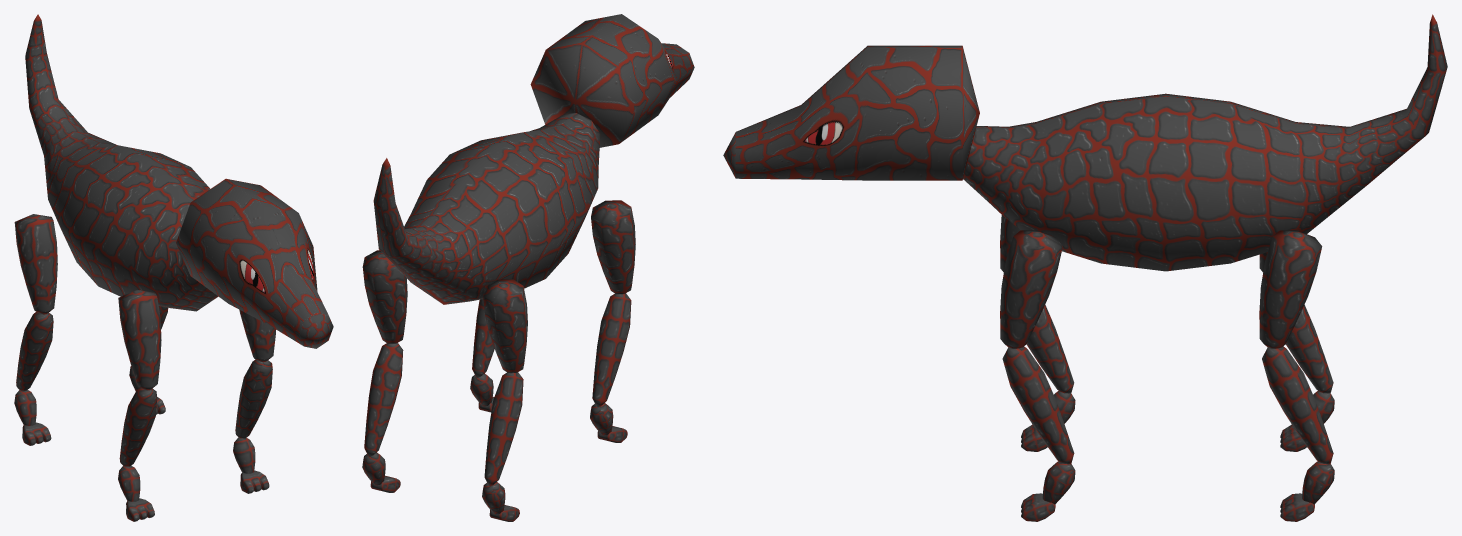
Rendered from Multi_Mon_4Legs.fbx.
3 views of the same model, side by side, from view 1: azimuth 30°, elevation 25°; view 2: azimuth 150°, elevation 25°; view 3: azimuth 270°, elevation 25° (orthographic). The views are drawn at different scales.
Visible parts, largest first — view 1: Body, Head, Upper_Leg_R_B, Upper_Leg_R_F, Lower_Leg_L_F, Lower_Leg_R_B, Lower_Leg_R_F, Upper_Leg_L_F, Ankle_Leg_L_F, Ankle_Leg_R_F, Ankle_Leg_R_B, Foot_Leg_L_F (+2 smaller); view 2: Body, Head, Upper_Leg_R_F, Upper_Leg_R_B, Upper_Leg_L_B, Lower_Leg_L_B, Lower_Leg_R_F, Lower_Leg_R_B, Lower_Leg_L_F, Ankle_Leg_L_F, Ankle_Leg_L_B, Ankle_Leg_R_B (+1 smaller); view 3: Body, Head, Upper_Leg_L_B, Upper_Leg_L_F, Lower_Leg_L_F, Lower_Leg_L_B, Lower_Leg_R_F, Lower_Leg_R_B, Ankle_Leg_L_B, Ankle_Leg_L_F.
Boxes of the visible parts, x1,y1,x2,y2 form: Body: [25, 14, 218, 311]; Head: [176, 178, 333, 348]; Upper_Leg_R_B: [14, 214, 57, 314]; Upper_Leg_R_F: [118, 290, 161, 390]; Lower_Leg_L_F: [235, 359, 272, 438]; Lower_Leg_R_B: [16, 312, 53, 390]; Lower_Leg_R_F: [119, 387, 157, 466]; Upper_Leg_L_F: [239, 310, 275, 362]; Ankle_Leg_L_F: [233, 437, 255, 473]; Ankle_Leg_R_F: [118, 465, 140, 501]; Ankle_Leg_R_B: [14, 390, 36, 425]; Foot_Leg_L_F: [240, 470, 269, 493]; Body: [373, 113, 600, 304]; Head: [530, 14, 694, 147]; Upper_Leg_R_F: [591, 200, 635, 294]; Upper_Leg_R_B: [483, 279, 527, 373]; Upper_Leg_L_B: [362, 250, 407, 343]; Lower_Leg_L_B: [364, 343, 403, 456]; Lower_Leg_R_F: [592, 293, 631, 407]; Lower_Leg_R_B: [484, 372, 523, 486]; Lower_Leg_L_F: [472, 299, 494, 377]; Ankle_Leg_L_F: [470, 373, 493, 406]; Ankle_Leg_L_B: [362, 452, 385, 485]; Ankle_Leg_R_B: [482, 482, 505, 514]; Body: [963, 14, 1447, 271]; Head: [723, 45, 979, 180]; Upper_Leg_L_B: [1259, 230, 1322, 348]; Upper_Leg_L_F: [1000, 230, 1062, 348]; Lower_Leg_L_F: [1002, 346, 1074, 464]; Lower_Leg_L_B: [1262, 346, 1333, 464]; Lower_Leg_R_F: [1026, 305, 1074, 393]; Lower_Leg_R_B: [1286, 305, 1333, 393]; Ankle_Leg_L_B: [1302, 461, 1334, 504]; Ankle_Leg_L_F: [1042, 461, 1075, 504].
Bounding box in the file's own units: 80.06 × 188 × 264.
